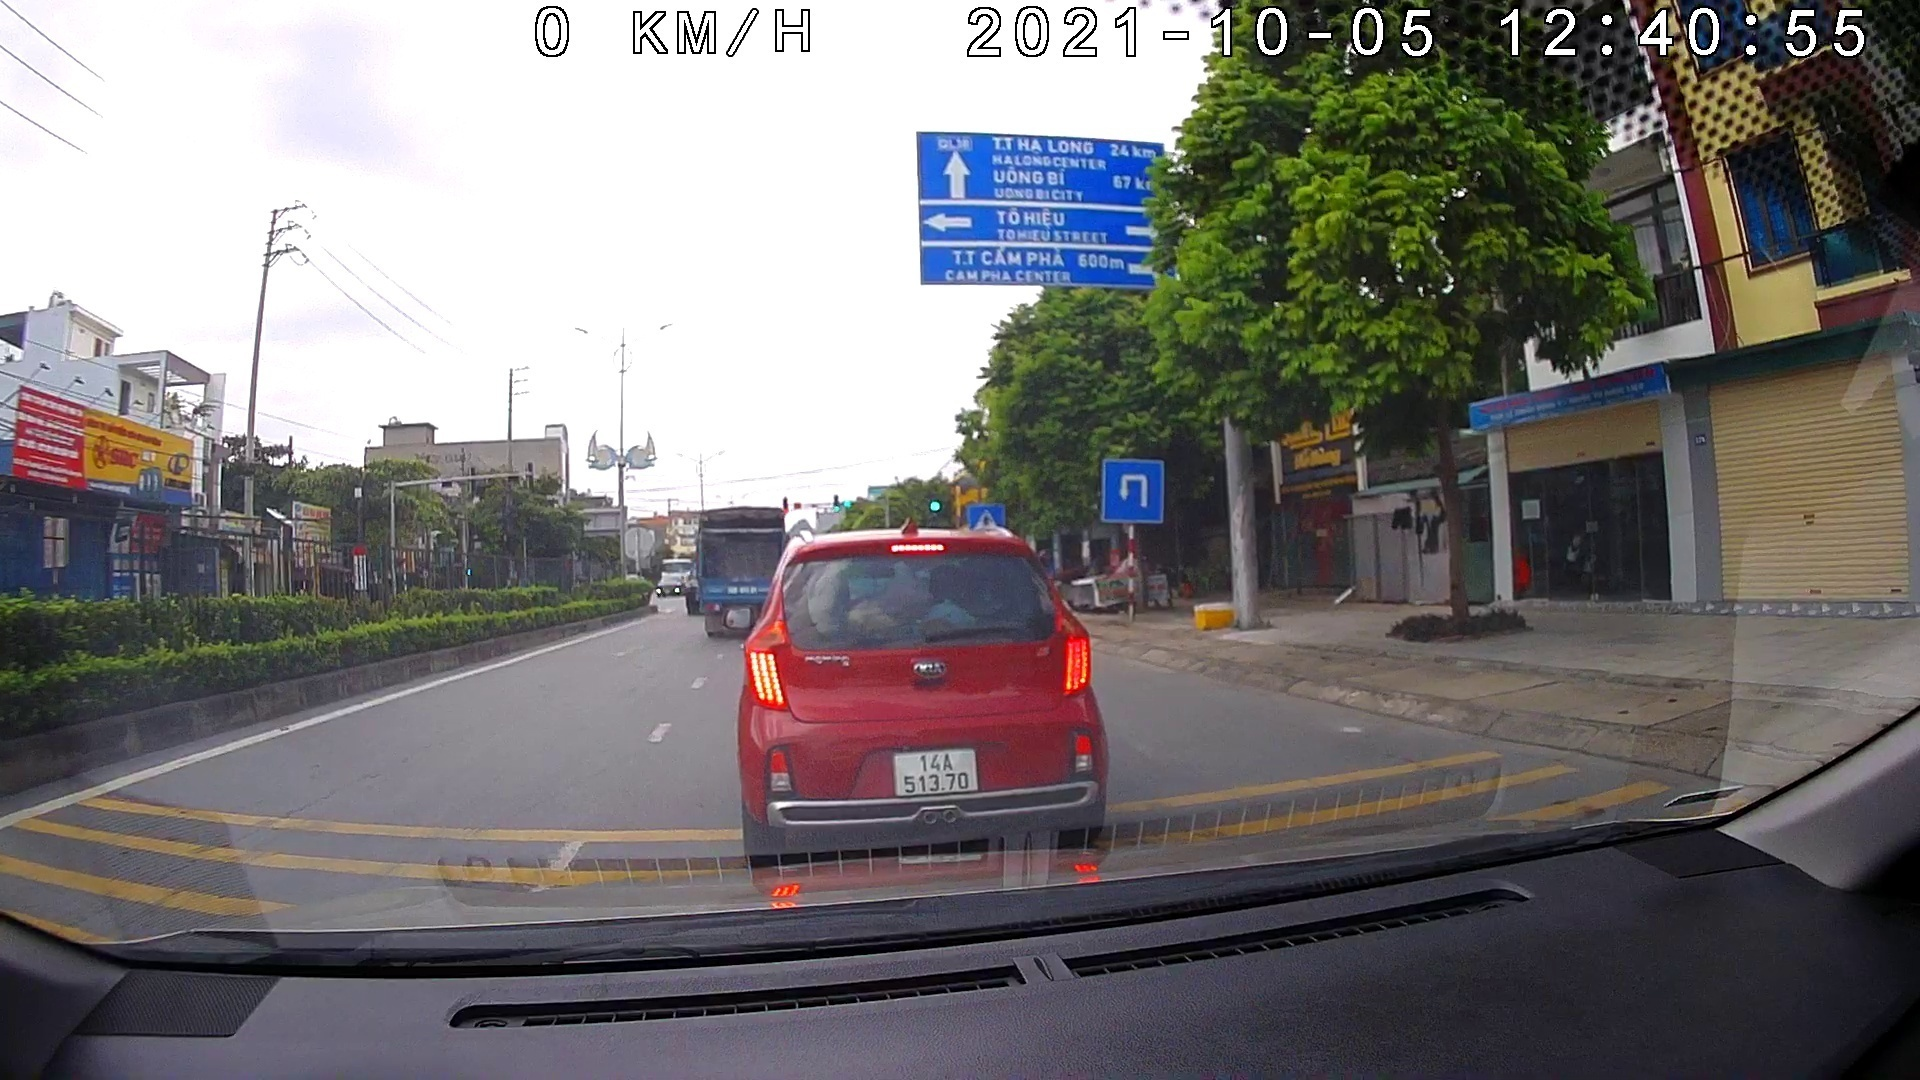Bien khac: (1098, 455, 1164, 526)
Nguoi di bo: (964, 502, 1004, 530)
